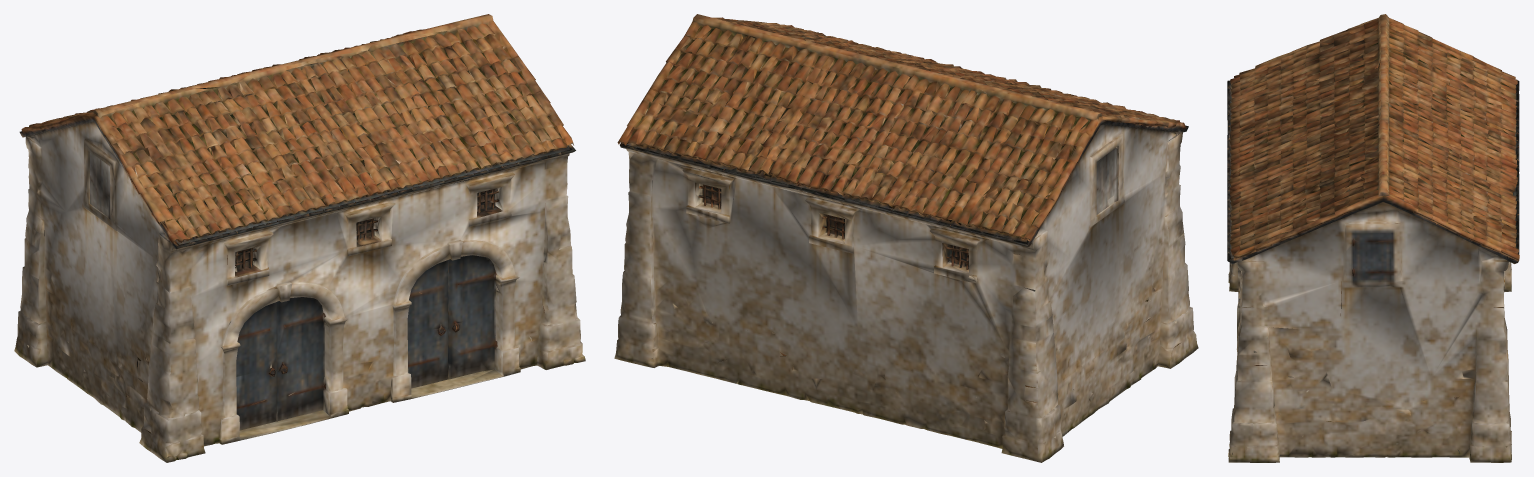
Rendered from coastal-warehouse.glb.
3 views of the same model, side by side, from view 1: azimuth 30°, elevation 25°; view 2: azimuth 150°, elevation 25°; view 3: azimuth 270°, elevation 25° (orthographic). The views are drawn at different scales.
Visible parts, largest first — view 1: coastal-warehouse_LOD0; view 2: coastal-warehouse_LOD0; view 3: coastal-warehouse_LOD0.
Part boxes in pixels (x1,y1,x2,y2): coastal-warehouse_LOD0: (14, 14, 585, 462); coastal-warehouse_LOD0: (614, 14, 1198, 462); coastal-warehouse_LOD0: (1227, 14, 1519, 462).
Size of what is drawn, in the model's own units: 11 by 7.21 by 7.18.
1 material, 1 textured.
